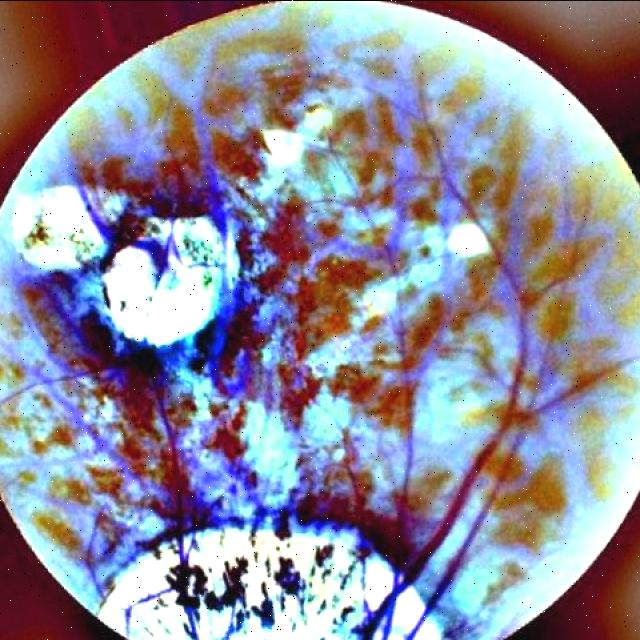Macula: (81, 226, 239, 383)
Nerves: (359, 189, 640, 640), (400, 416, 534, 640), (151, 371, 196, 640)
Optic Disk: (102, 524, 452, 640)
